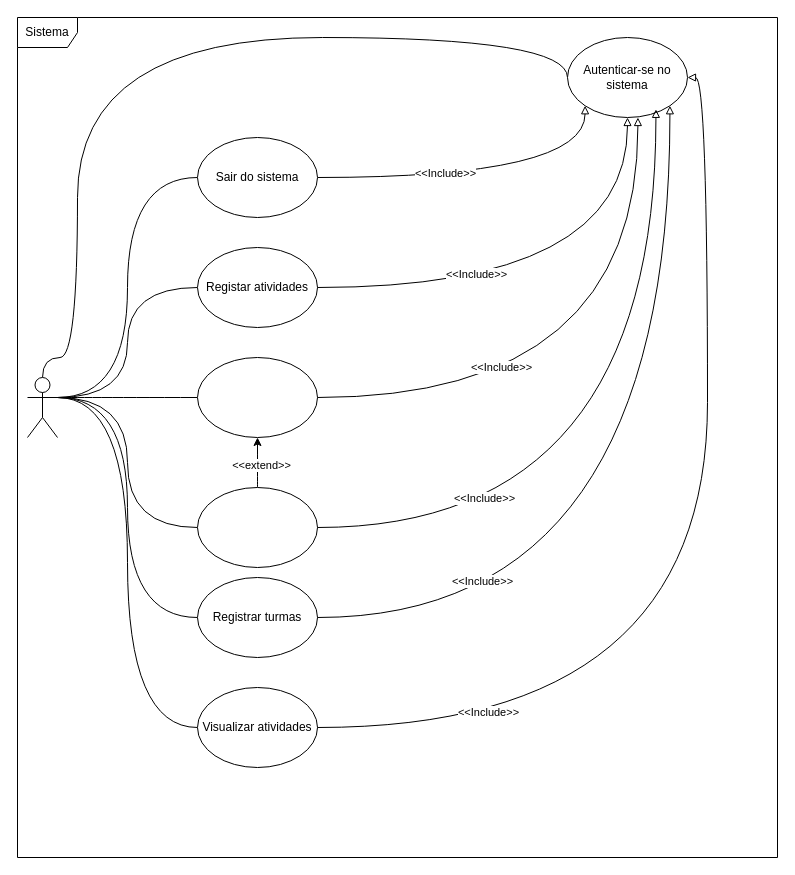
Some shapes in this 795 by 875 pixel diagram are drawn without their labels. Each missing label, with the box of its shape:
Exxluir turmas: (196, 356, 318, 438)
Professor: (26, 376, 58, 438)
Visualizar turmas: (196, 486, 318, 568)
